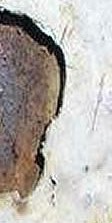Corrosion: (1, 9, 67, 199)
